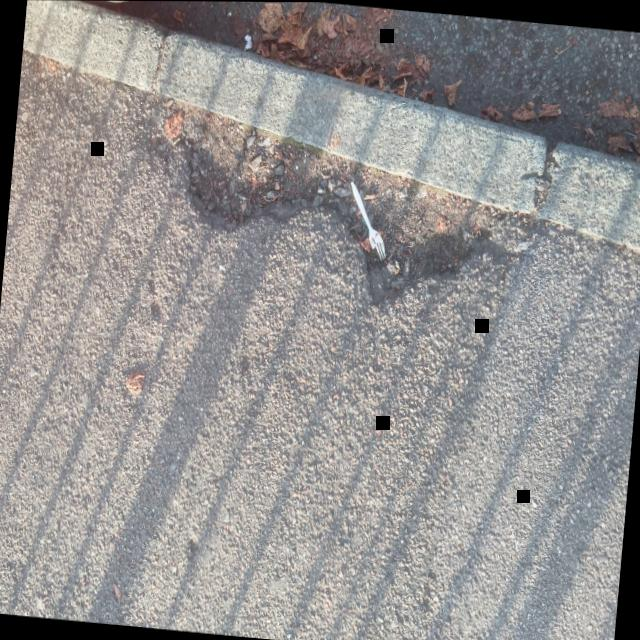Plastic utensils: (351, 180, 385, 259)
Unlabeled litter: (244, 33, 252, 49)
